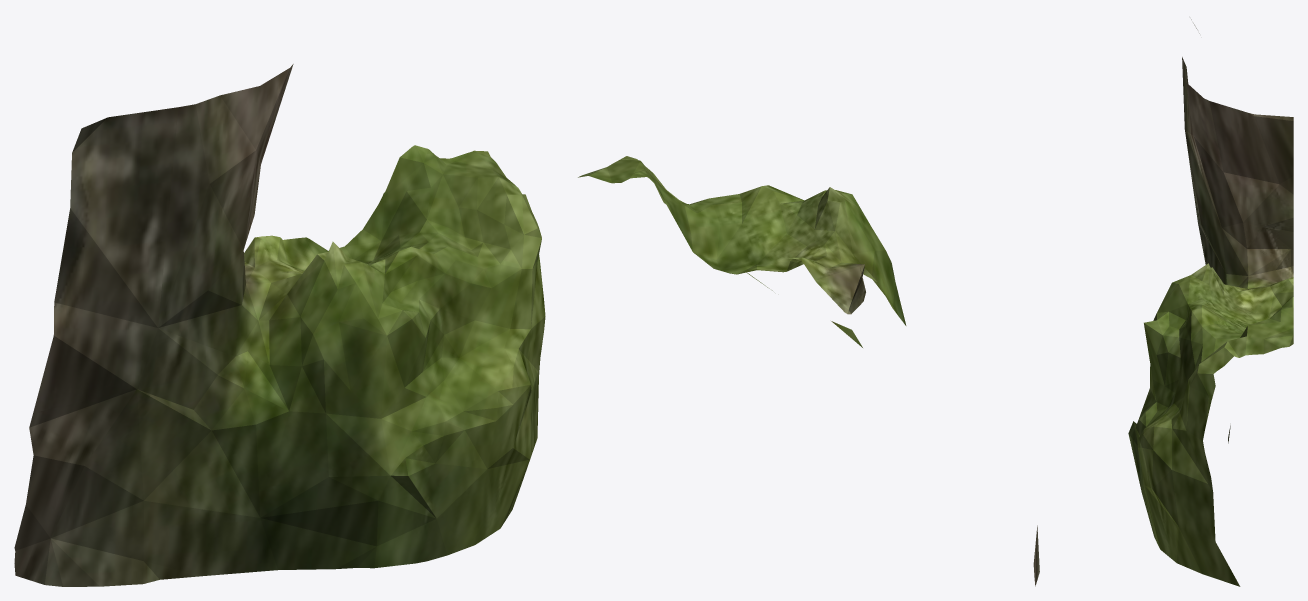
3 renders of one model, left to right at view 1: azimuth 30°, elevation 25°; view 2: azimuth 150°, elevation 25°; view 3: azimuth 270°, elevation 25°, orthographic. The views are drawn at different scales.
Size of the model in its own units: 2.95 by 2.95 by 1.13.
3 materials, 3 textured.
